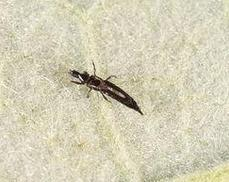tiny_pests: (53, 53, 157, 126)
